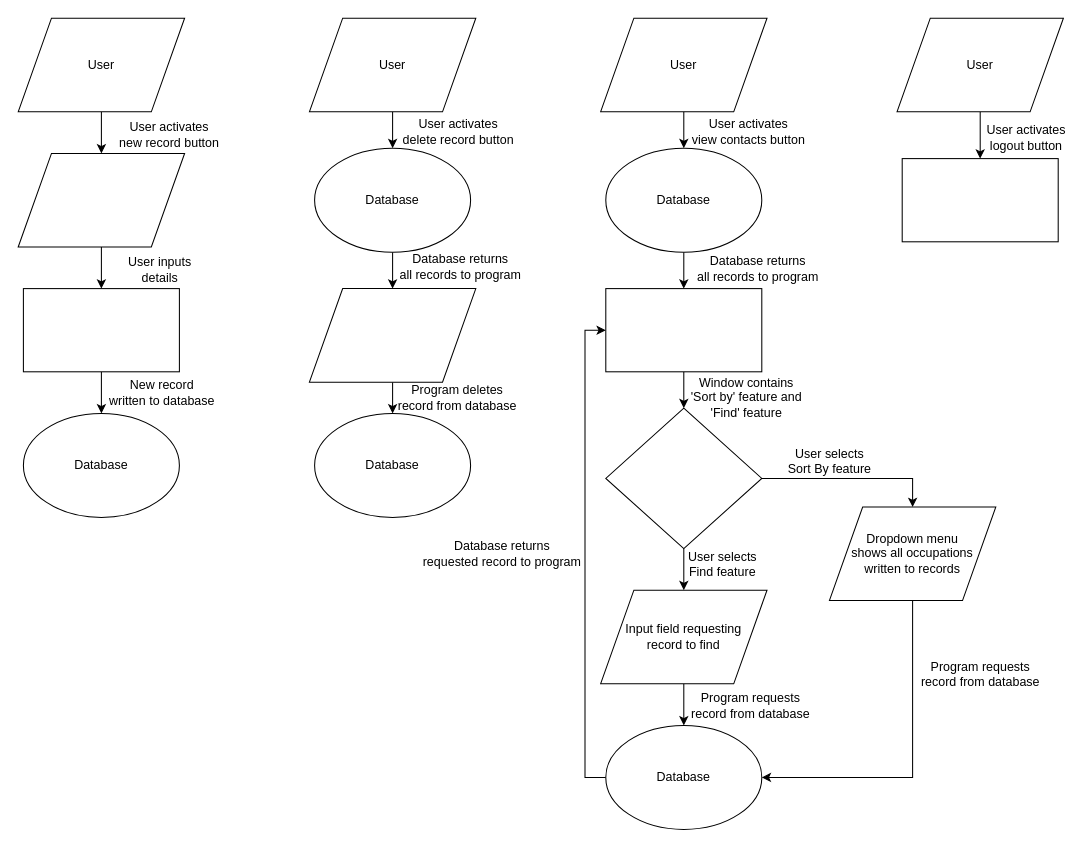
Some shapes in this 1091 by 848 pixel diagram are drawn without their labels. Here are the shapes that lost their labels. From the top down, the centre of each, then its label:
At pixel 101 199: "Window requesting user to input details".
At pixel 979 200: "Application is closed".
At pixel 100 330: "Details saved in 'New Record' class".
At pixel 392 335: "Window requesting user to select record to delete".
At pixel 683 330: "Window updated to show list of clients".
At pixel 683 478: "User chooses 'Sort By' or 'Find' function".
